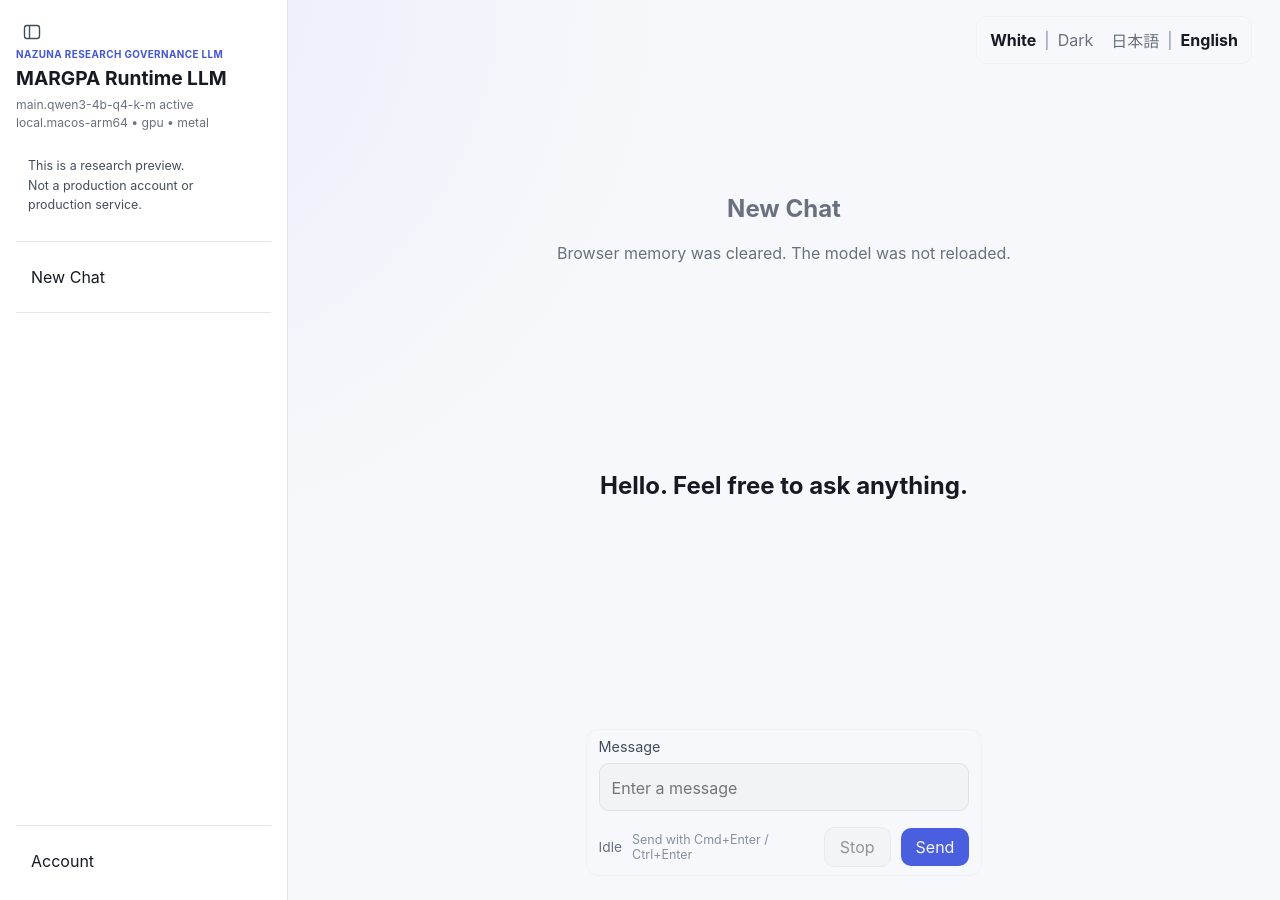
Test: App › closing and reopening Settings keeps each Server Current Mode selected
Click the button "Account" at (144, 861), box [16,842,271,880]
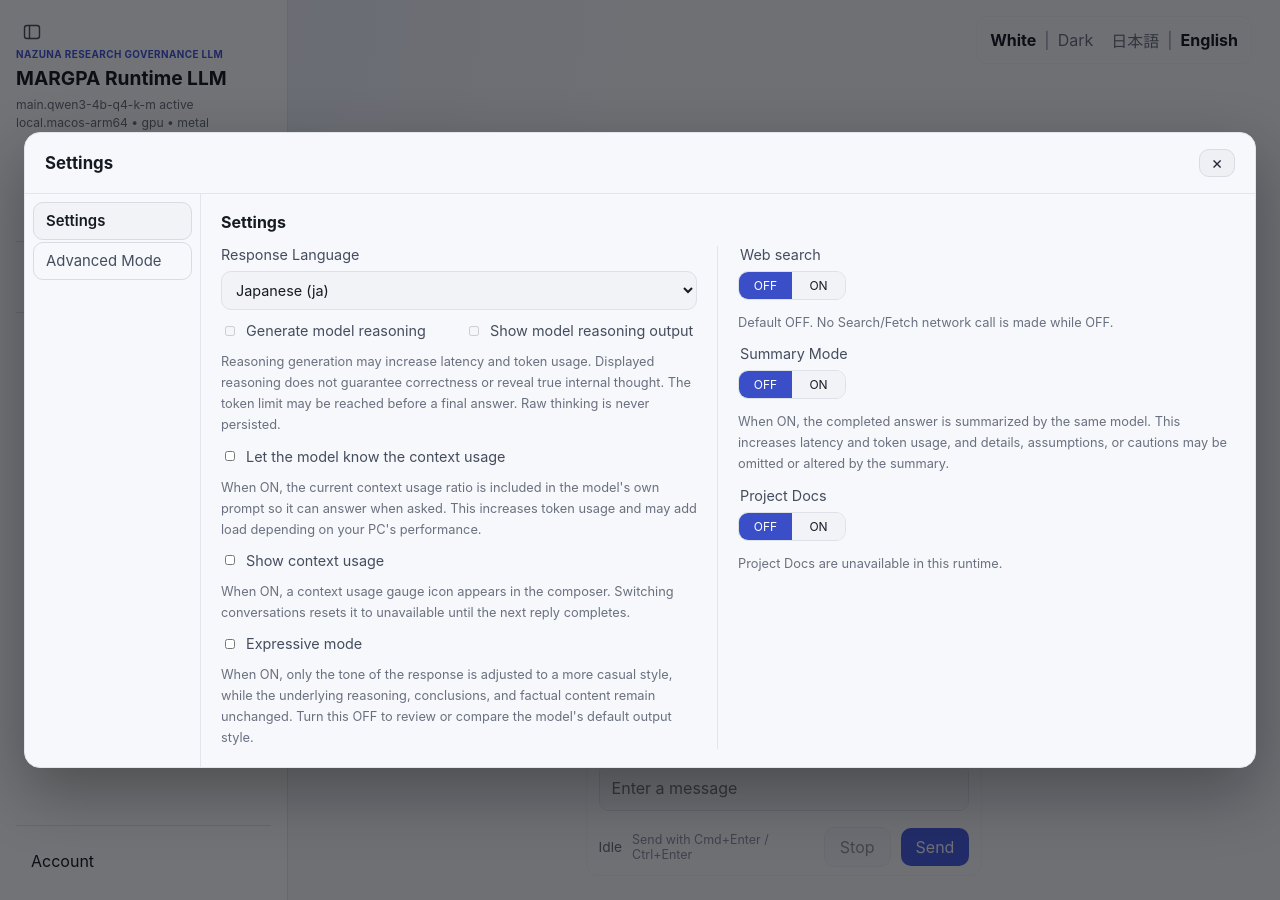
Click the button "Advanced Mode" at (112, 261), box [33,242,192,280]
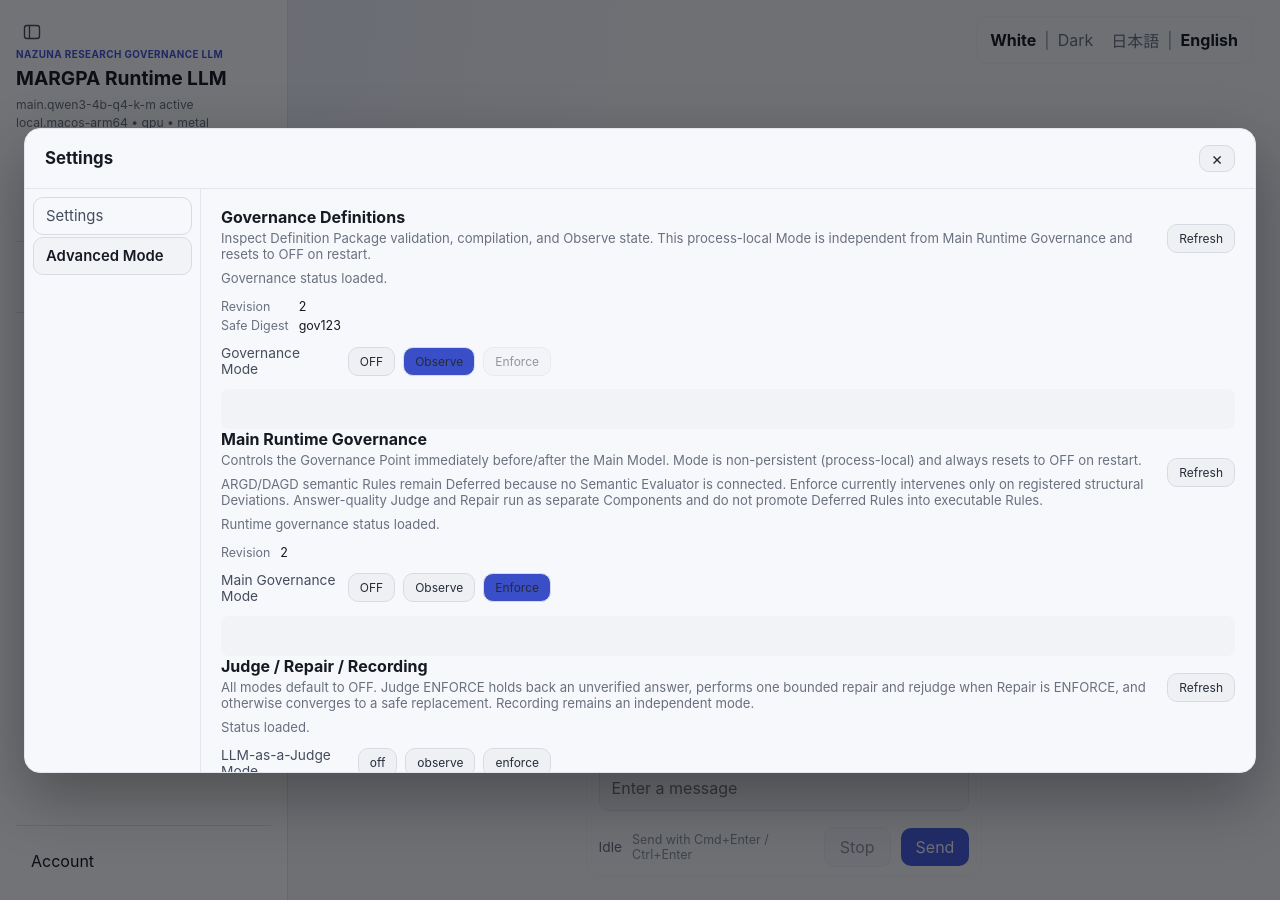
expect the element with id "governance-panel" is shown: met, box [221,207,1235,429]
expect the element with id "runtime-governance-panel" is shown: met, box [221,429,1235,656]
Click the button named "Close" at (1217, 158), box [1199,144,1235,172]
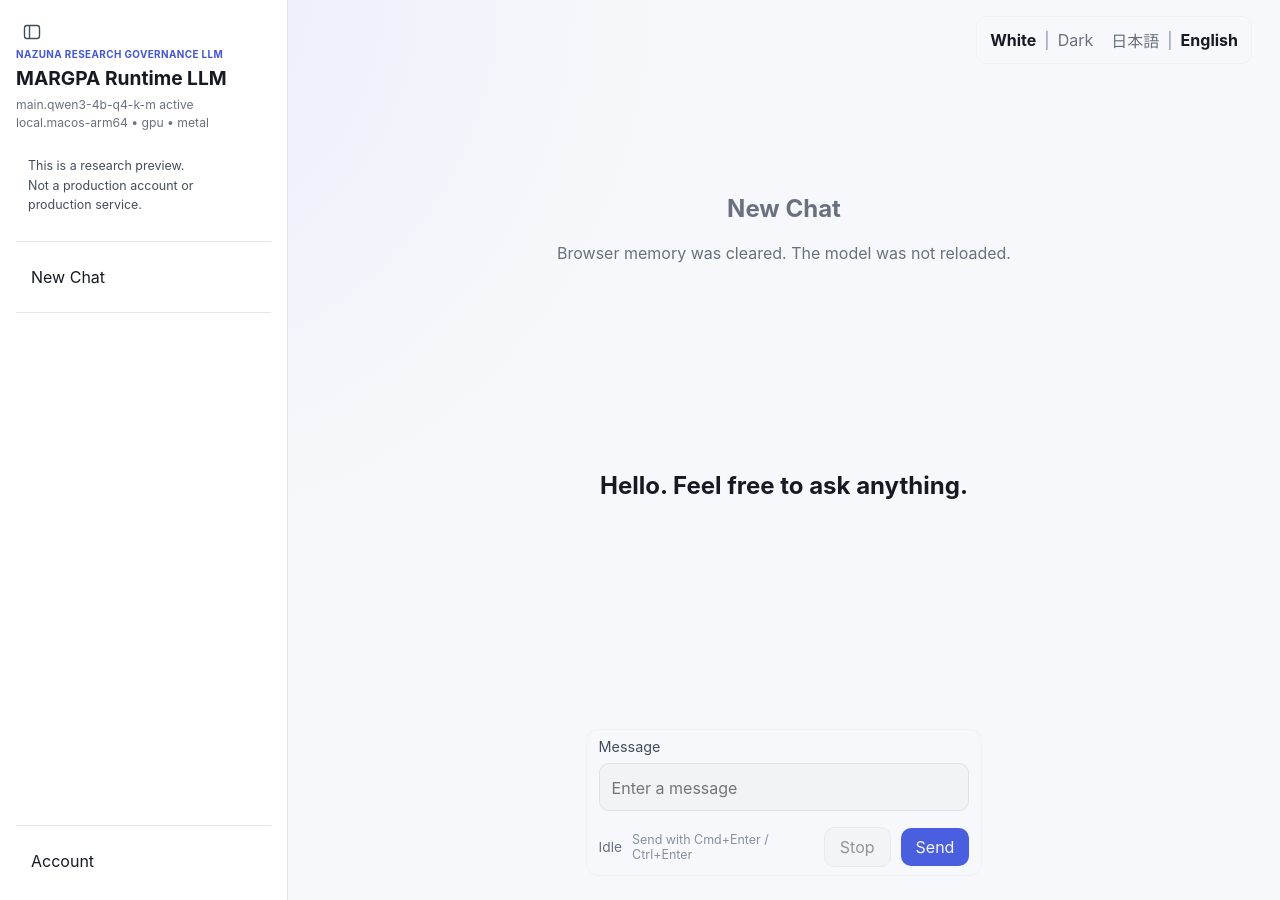
expect the dialog is gone: met
Click the button "Account" at (144, 861), box [16,842,271,880]
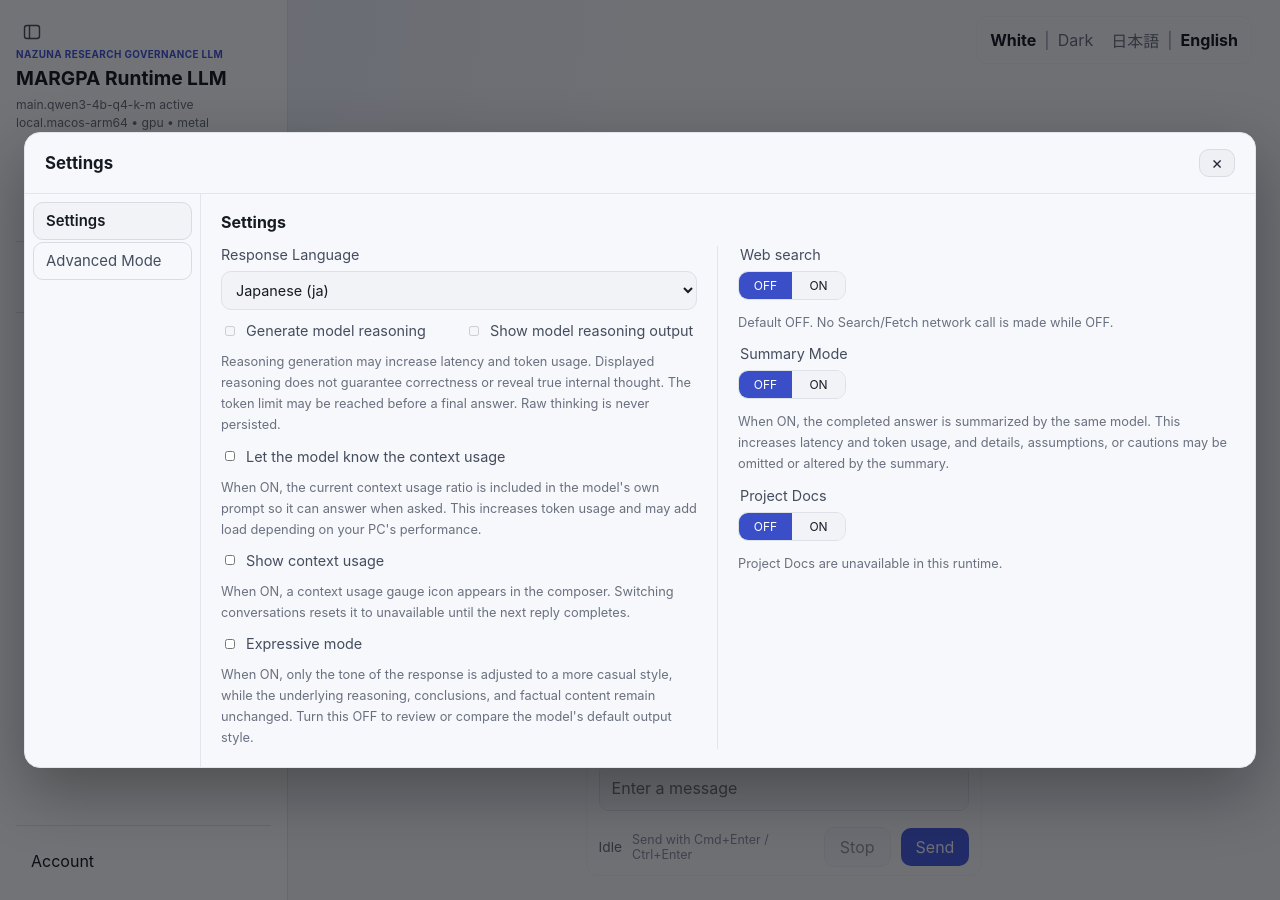
Click the button "Advanced Mode" at (112, 261), box [33,242,192,280]
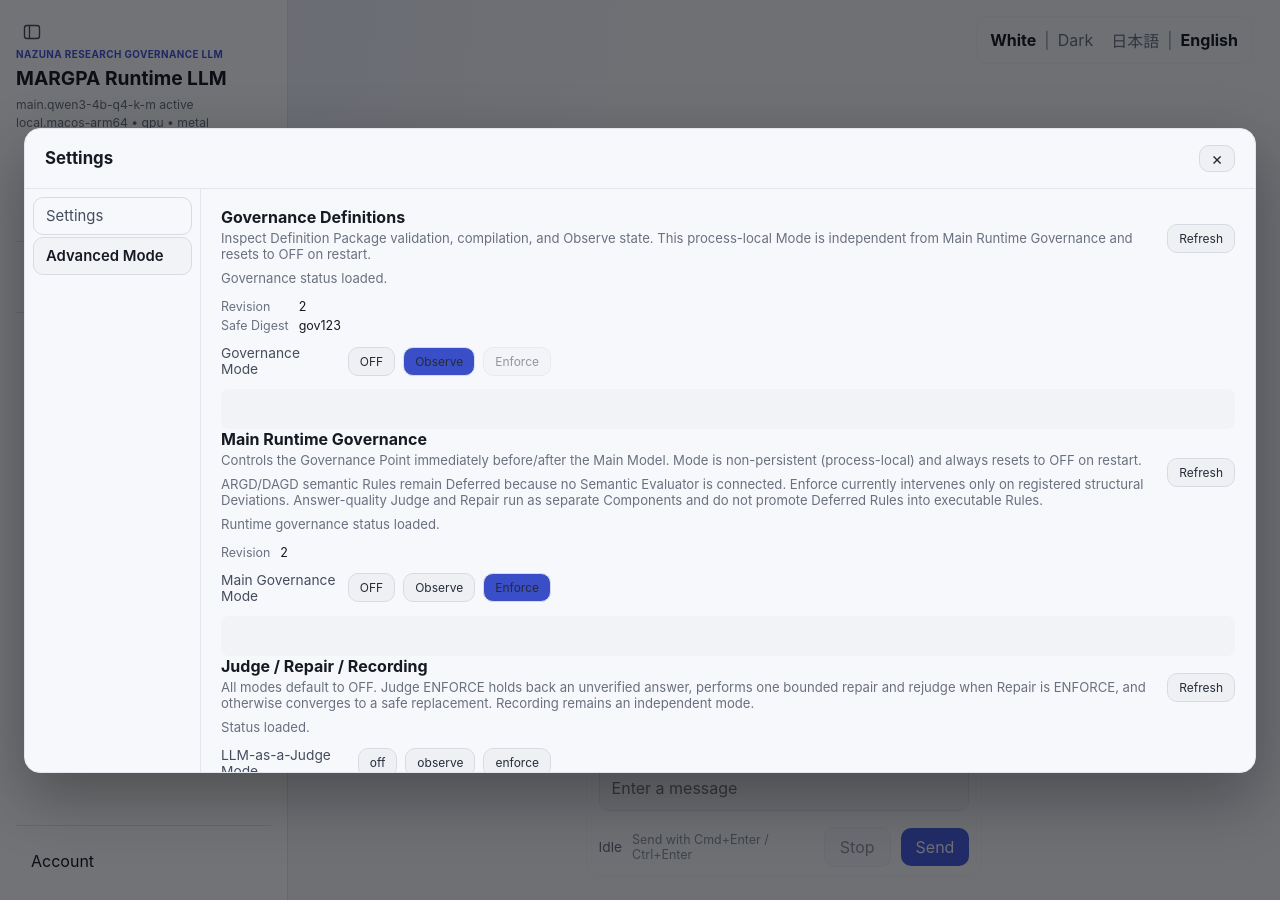
expect the element with id "governance-panel" is shown: met, box [221,207,1235,429]
expect the element with id "runtime-governance-panel" is shown: met, box [221,429,1235,656]
